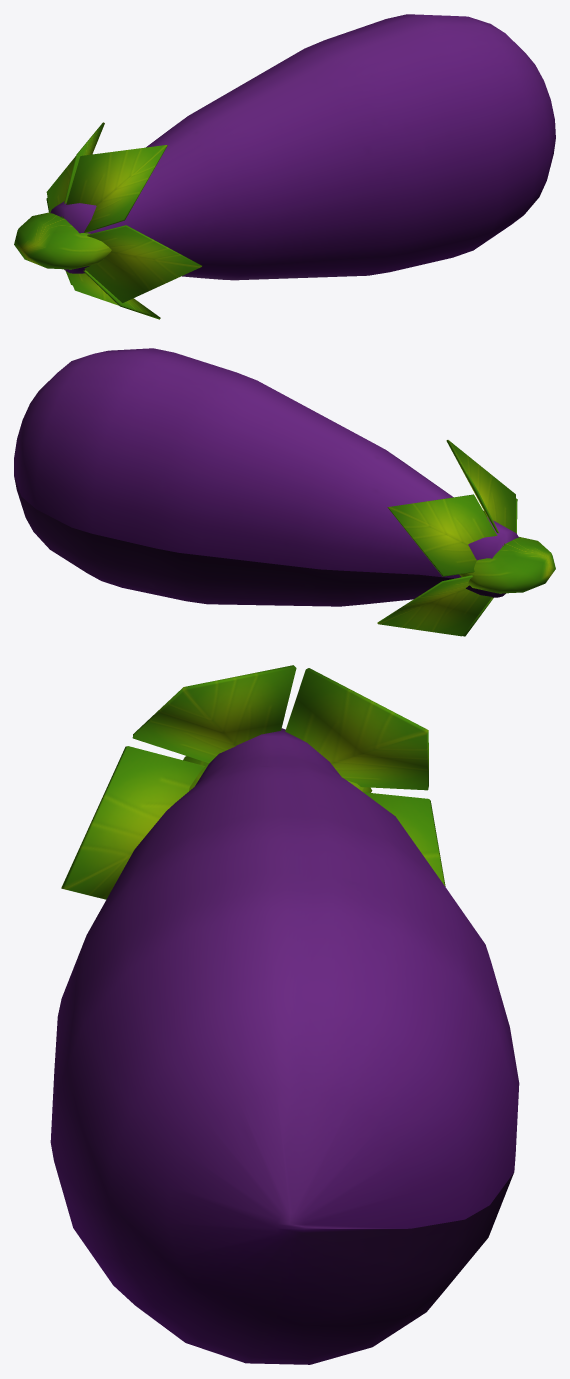
File: NP_Eggplant_Harvest.fbx
3 views of the same model, one above another, from view 1: azimuth 30°, elevation 25°; view 2: azimuth 150°, elevation 25°; view 3: azimuth 270°, elevation 25° (orthographic). The views are drawn at different scales.
Parts seen in each view (by area): view 1: NP_Eggplant_Harvest; view 2: NP_Eggplant_Harvest; view 3: NP_Eggplant_Harvest.
Part boxes in pixels (x1,y1,x2,y2): NP_Eggplant_Harvest: (14, 14, 555, 319); NP_Eggplant_Harvest: (14, 348, 555, 636); NP_Eggplant_Harvest: (50, 665, 519, 1364).
Size of the model in its own units: 41.39 by 16.73 by 16.14.
